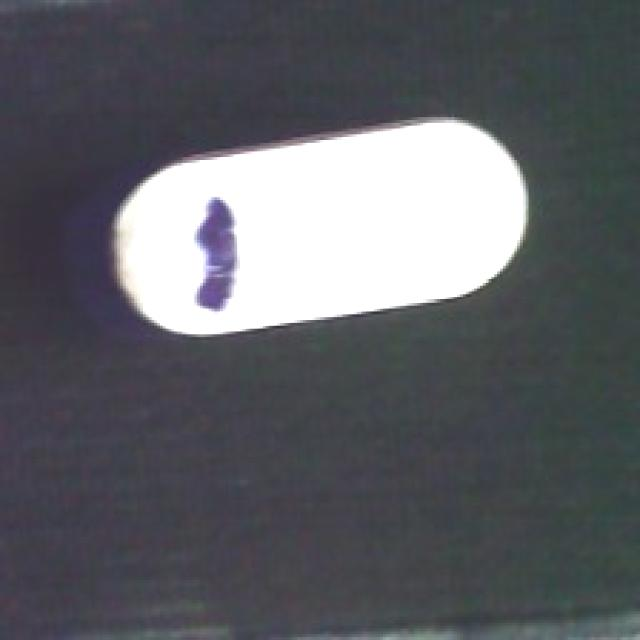defected: (100, 109, 534, 337)
